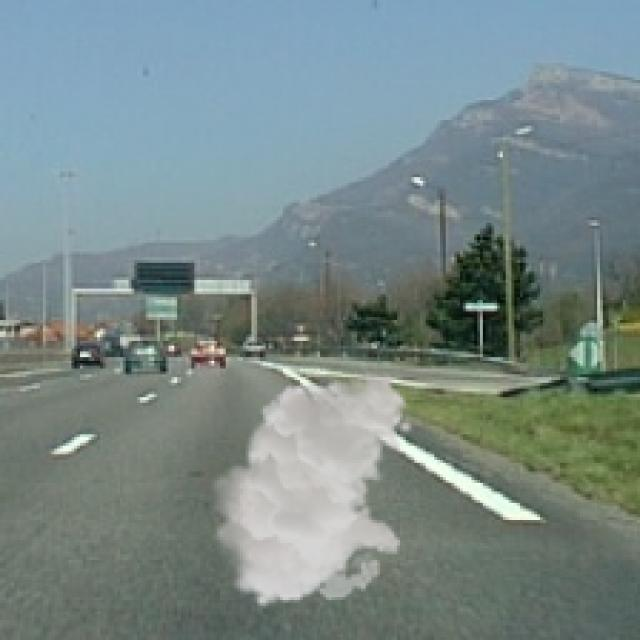smoke: (206, 372, 414, 608)
